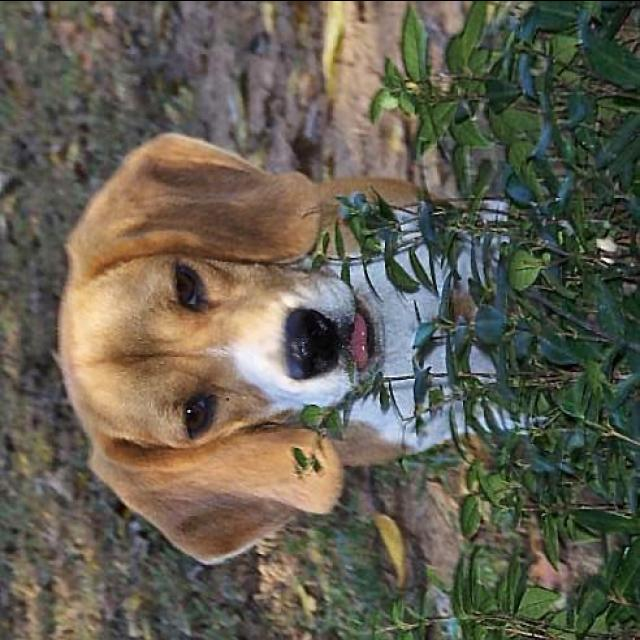beagle: (53, 128, 531, 562)
